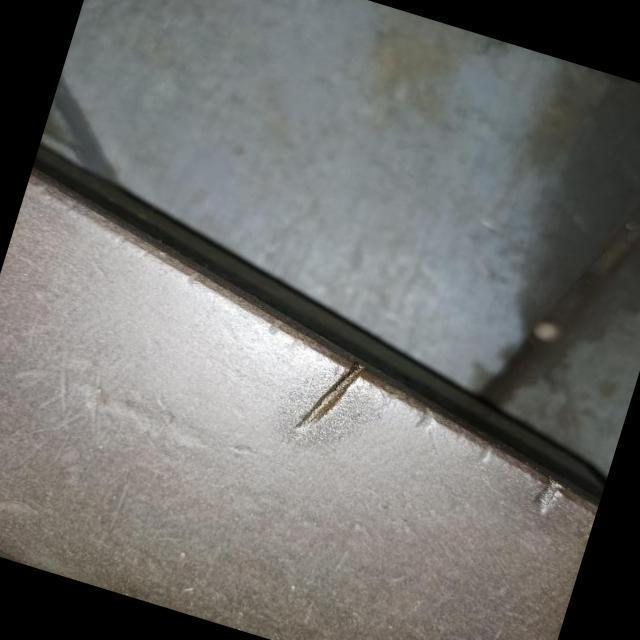defect: (297, 359, 367, 429)
